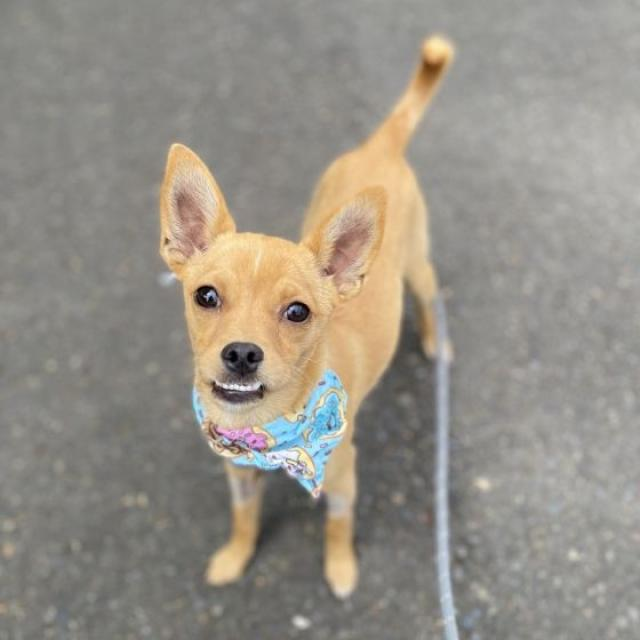chihuahua_dog: (154, 140, 392, 427)
